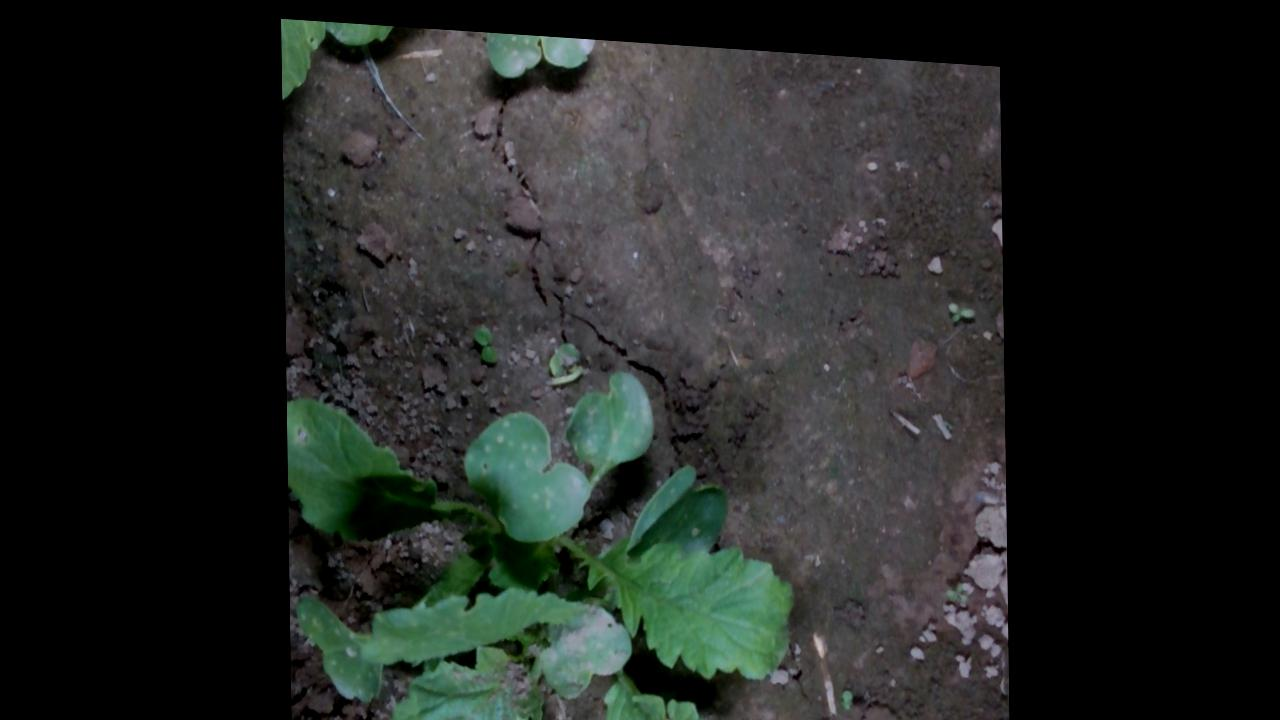weed: (471, 316, 501, 355), (838, 674, 854, 700)
